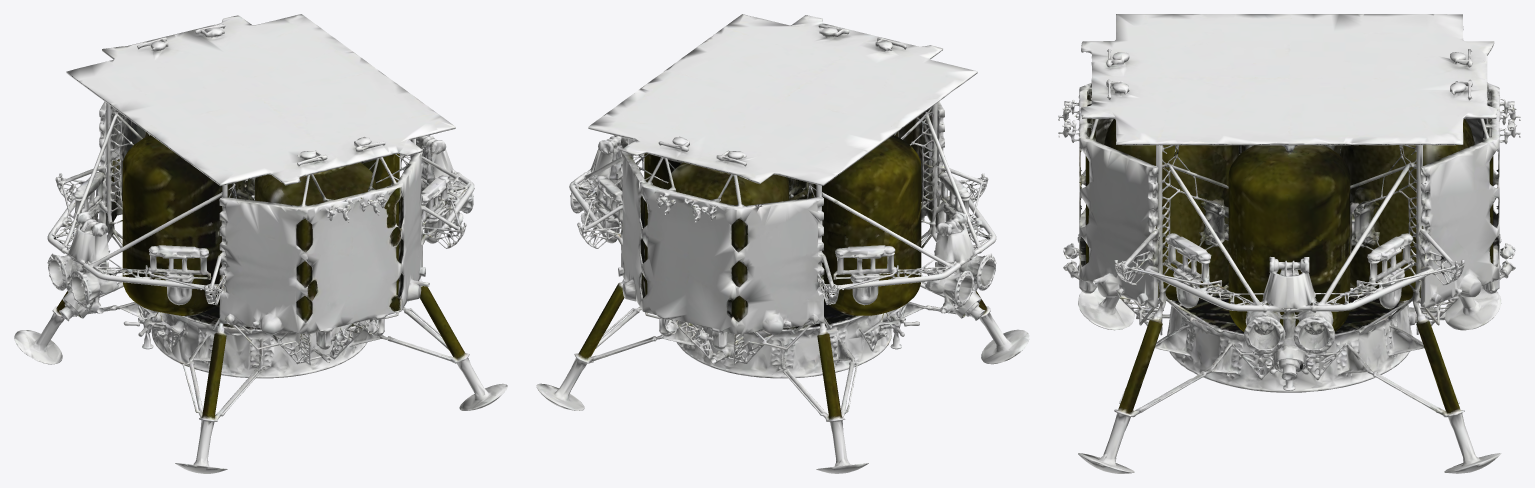
The model's file is peregrine.glb.
3 views of the same model, side by side, from view 1: azimuth 30°, elevation 25°; view 2: azimuth 150°, elevation 25°; view 3: azimuth 270°, elevation 25° (orthographic). The views are drawn at different scales.
Size of the model in its own units: 1.9 by 1.33 by 1.69.
1 material, 1 textured.
